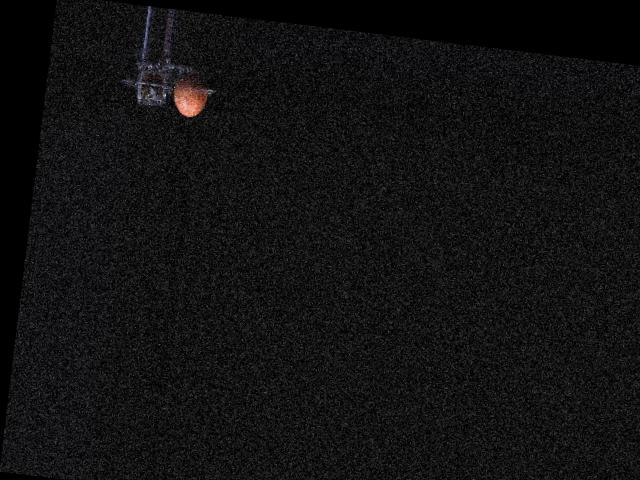egg: (172, 69, 211, 118)
